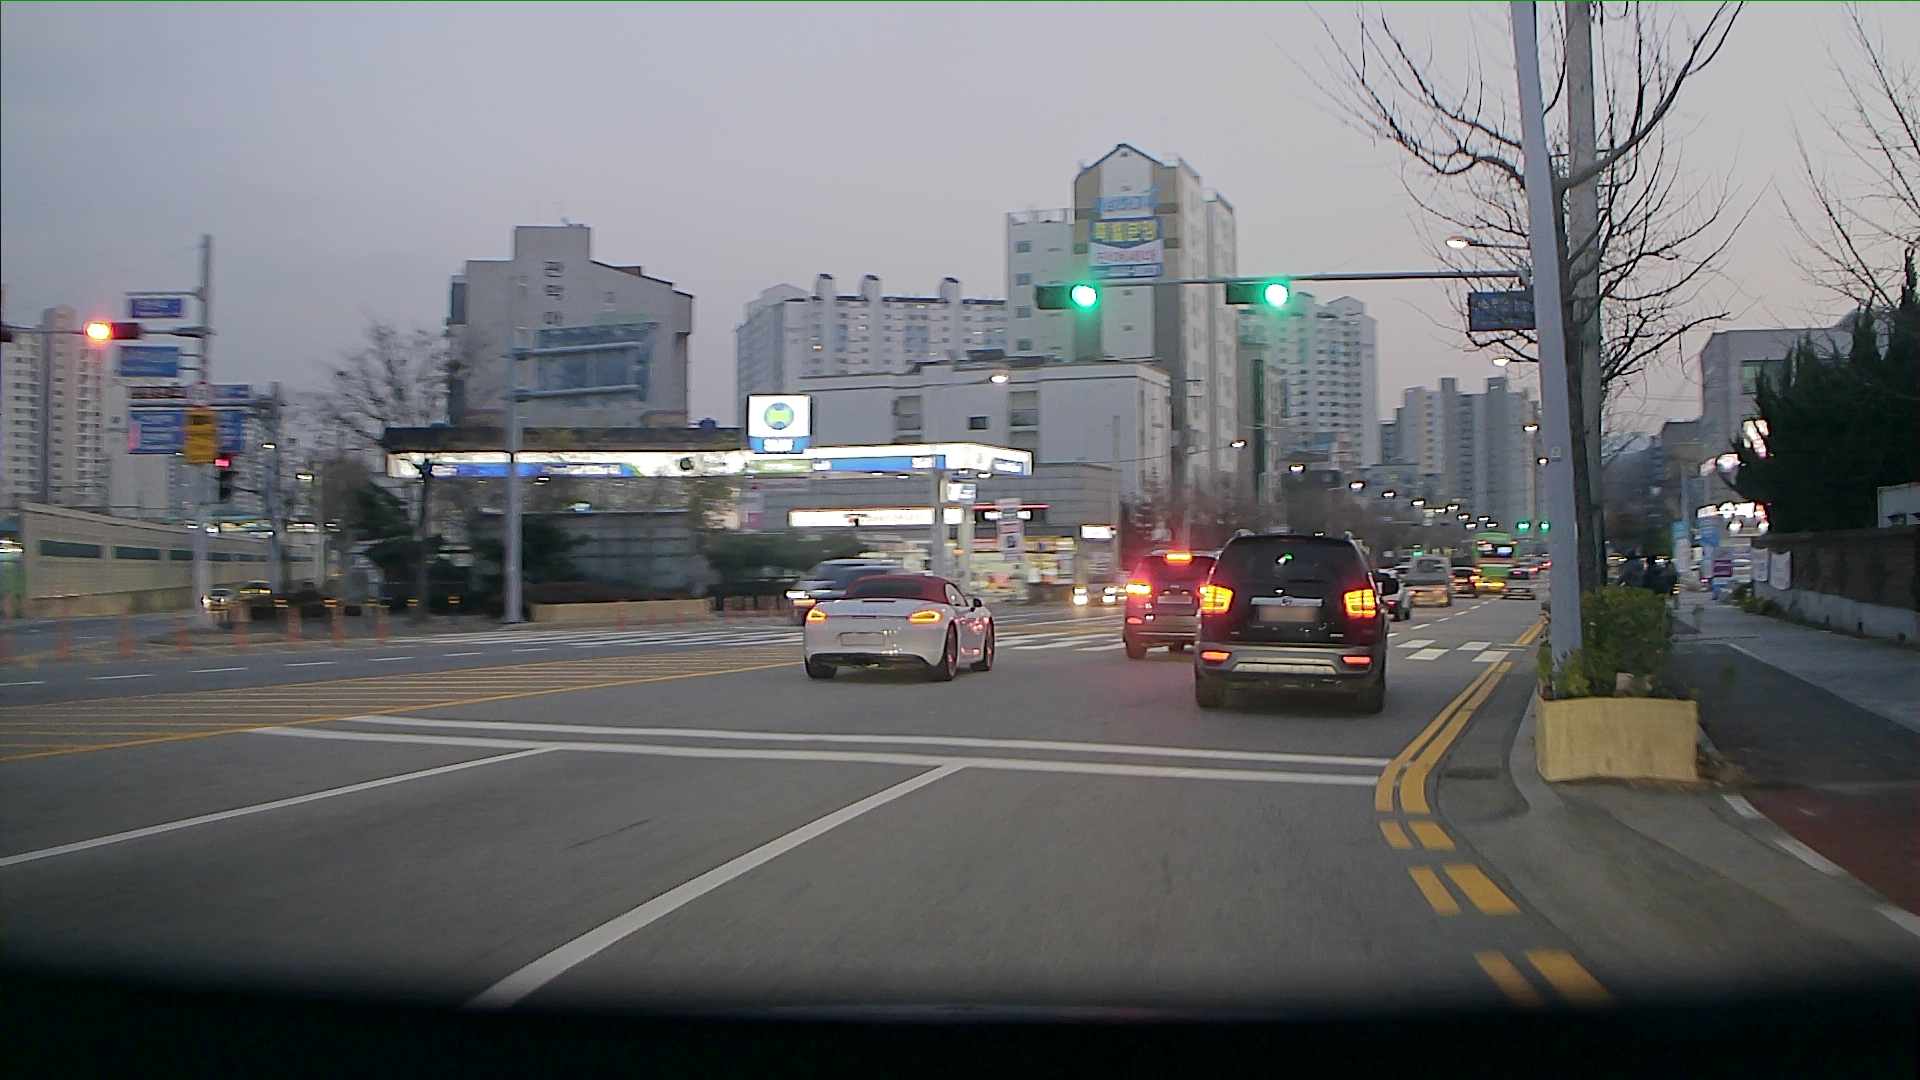trafficLight: (1221, 276, 1294, 309), (1030, 280, 1100, 309), (83, 320, 145, 342)
trafficSignCircle: (183, 380, 214, 405)
